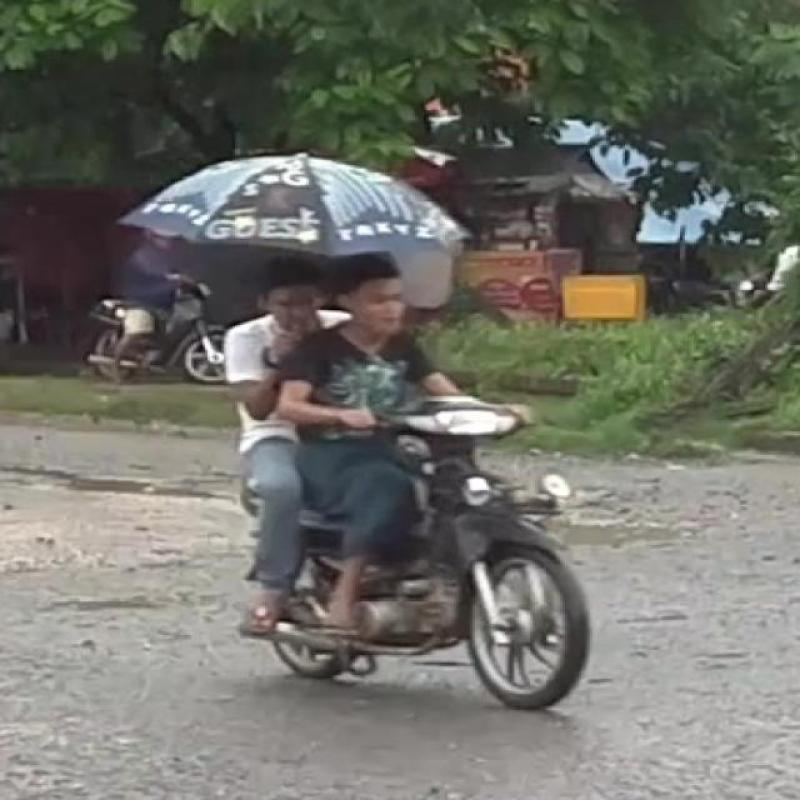nohelmet: (330, 246, 430, 352), (265, 255, 321, 336)
